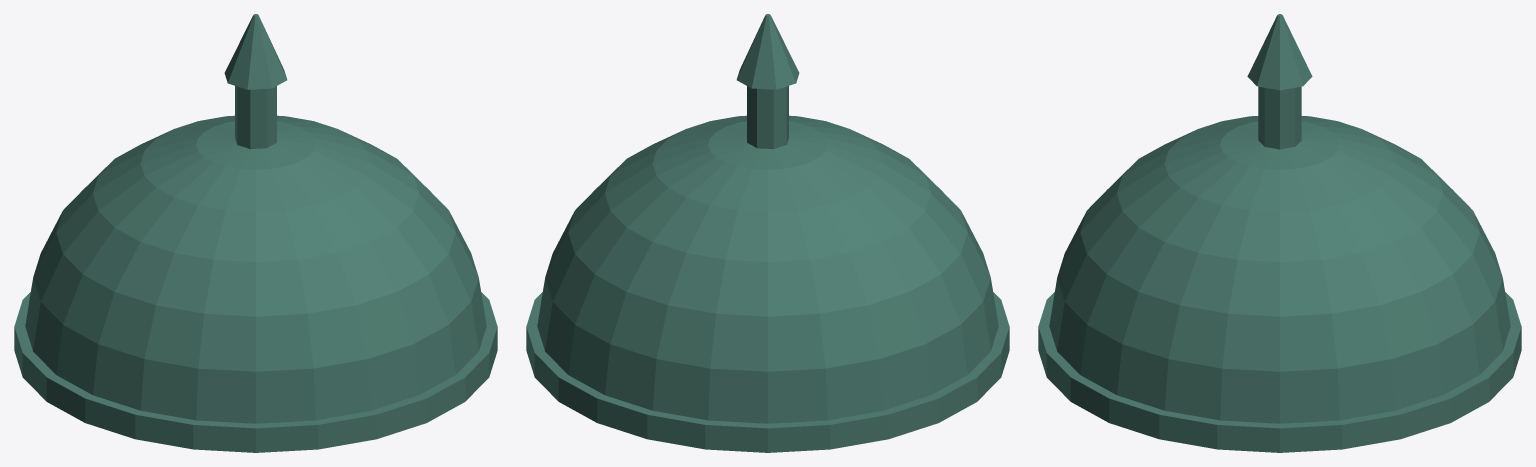
Rendered from roof_dome_d16.fbx.
The picture shows the model from 3 angles, left to right: view 1: azimuth 30°, elevation 25°; view 2: azimuth 150°, elevation 25°; view 3: azimuth 270°, elevation 25°; orthographic projection.
Parts seen in each view (by area): view 1: roof_dome_d16; view 2: roof_dome_d16; view 3: roof_dome_d16.
Part boxes in pixels (left/top/right/bottom): roof_dome_d16: left=14, top=14, right=497, bottom=452; roof_dome_d16: left=526, top=14, right=1009, bottom=452; roof_dome_d16: left=1038, top=14, right=1521, bottom=452.
Size of the model in its own units: 1780 by 1365 by 1780.
